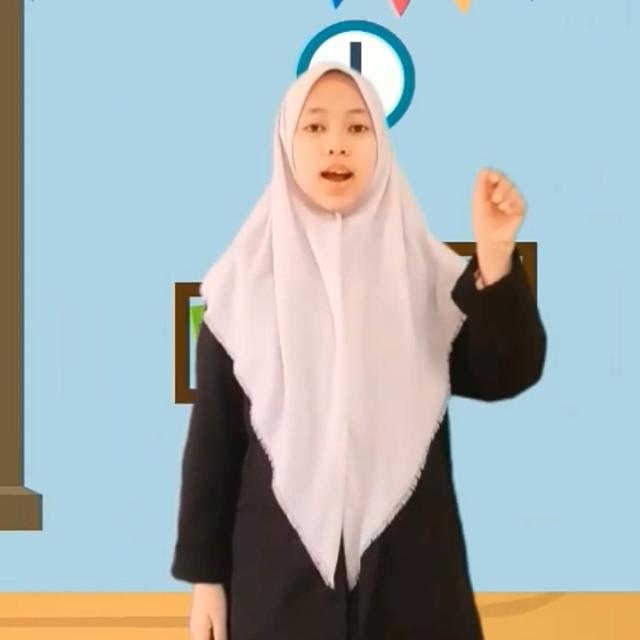A: (458, 160, 532, 260)
